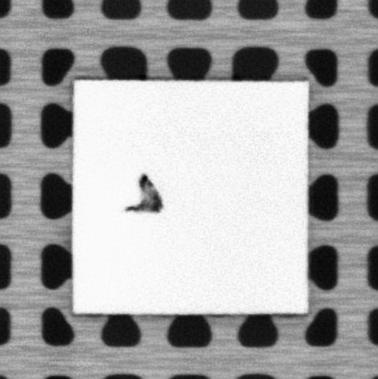DIE_INK: (121, 173, 165, 214)
